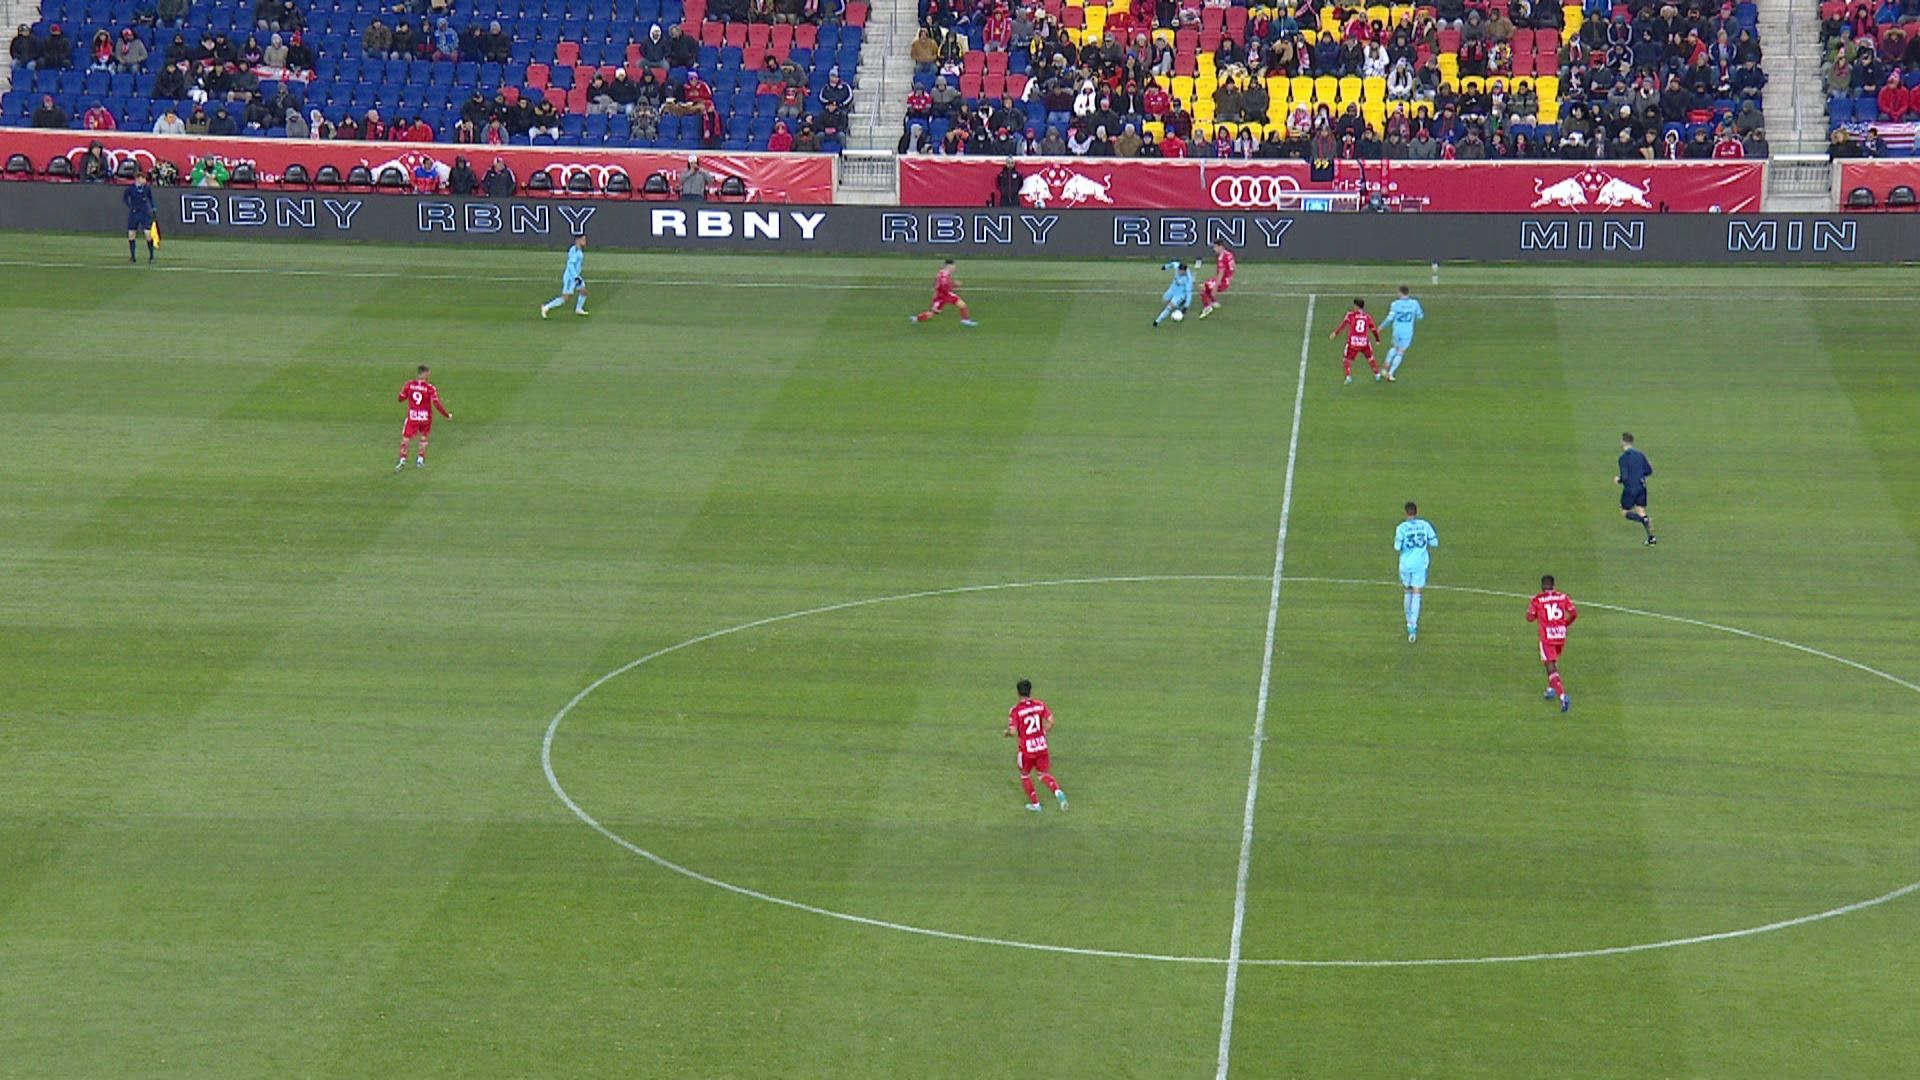football: (1171, 310, 1183, 322)
